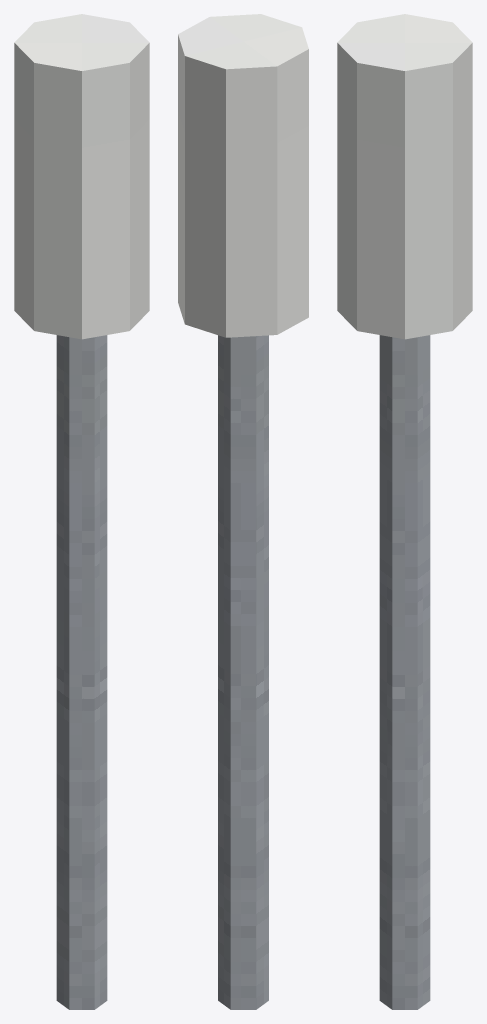
3 renders of one model, left to right at view 1: azimuth 90°, elevation 25°; view 2: azimuth 210°, elevation 25°; view 3: azimuth 270°, elevation 25°, orthographic.
Parts seen in each view (by area): view 1: Decor_bag_roll_stand; view 2: Decor_bag_roll_stand; view 3: Decor_bag_roll_stand.
Boxes of the visible parts, box(x1,y1,x2,y2) form: Decor_bag_roll_stand: box(14, 14, 149, 1009); Decor_bag_roll_stand: box(178, 14, 308, 1009); Decor_bag_roll_stand: box(337, 14, 472, 1009).
Size of the model in its own units: 0.16 by 1.25 by 0.16.
2 materials, 2 textured.
